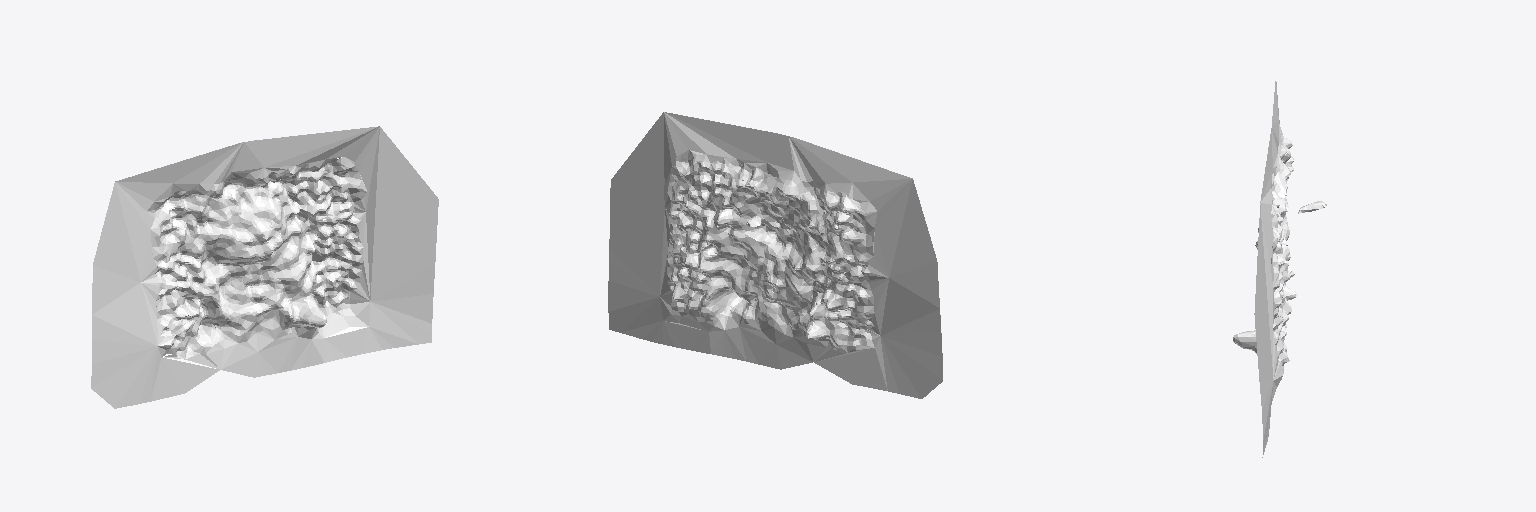
Rendered from owl.obj.
3 renders of one model, left to right at view 1: azimuth 30°, elevation 25°; view 2: azimuth 150°, elevation 25°; view 3: azimuth 270°, elevation 25°, orthographic.
Size of the model in its own units: 8.49 by 5.77 by 2.03.